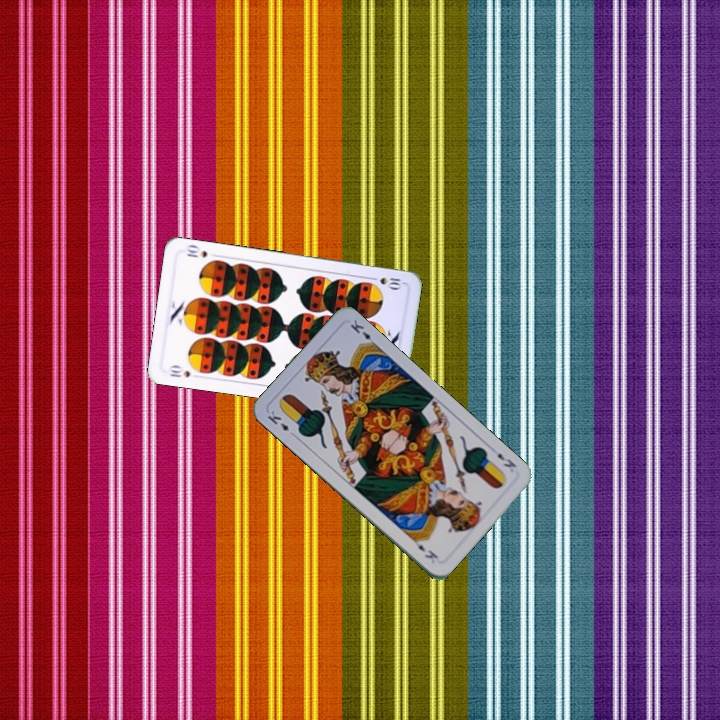EK: (263, 406, 298, 439), (493, 448, 520, 470)
S10: (365, 273, 404, 291), (166, 361, 193, 380)
